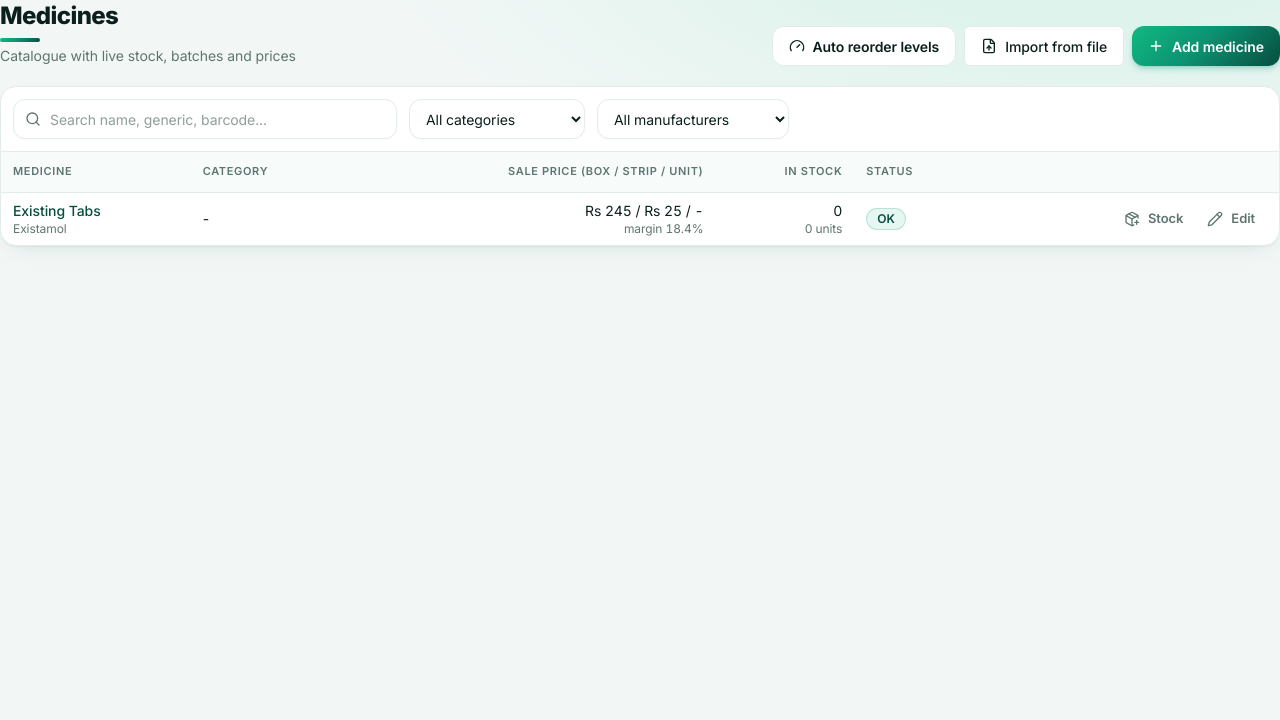
Scenario: minimum and maximum stock › says so honestly when there are no sales to base advice on
This screenshot has width=1280, height=720.
Click the button "Edit": (1231, 219) x1=1195 y1=203 x2=1267 y2=235
(page scrolled)
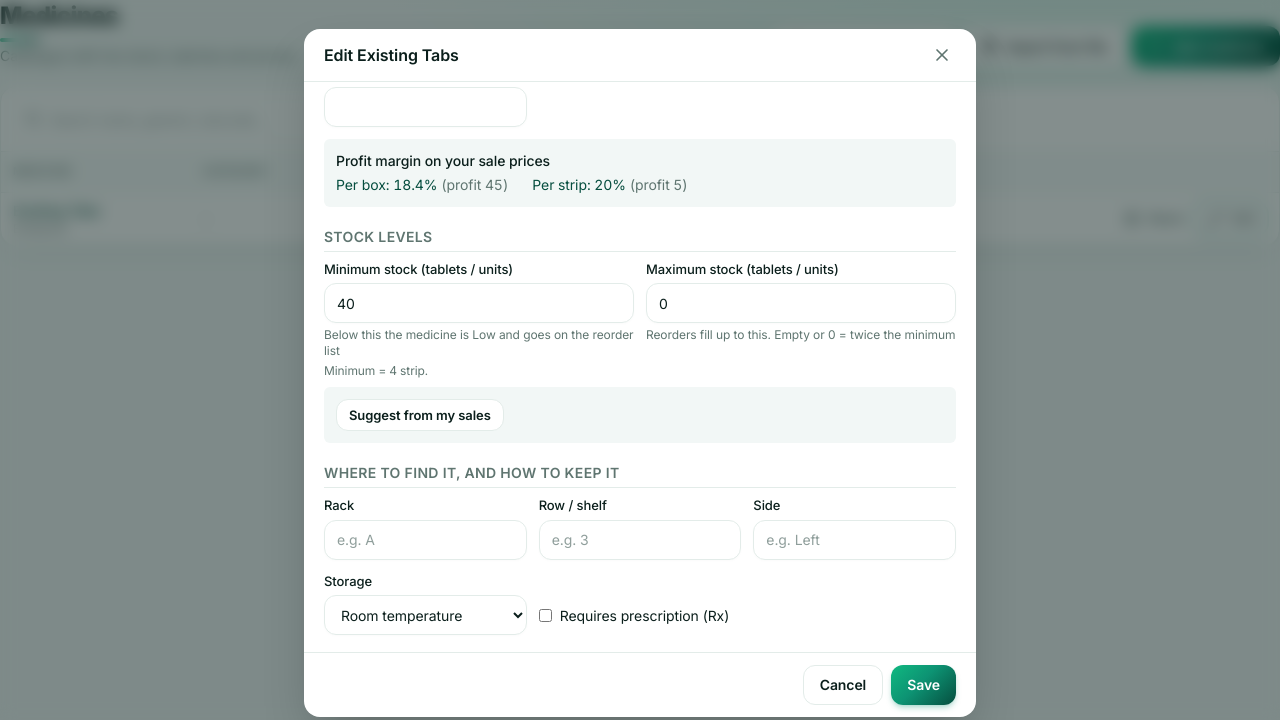
Click the button "Suggest from my sales": (420, 415) x1=336 y1=399 x2=504 y2=431
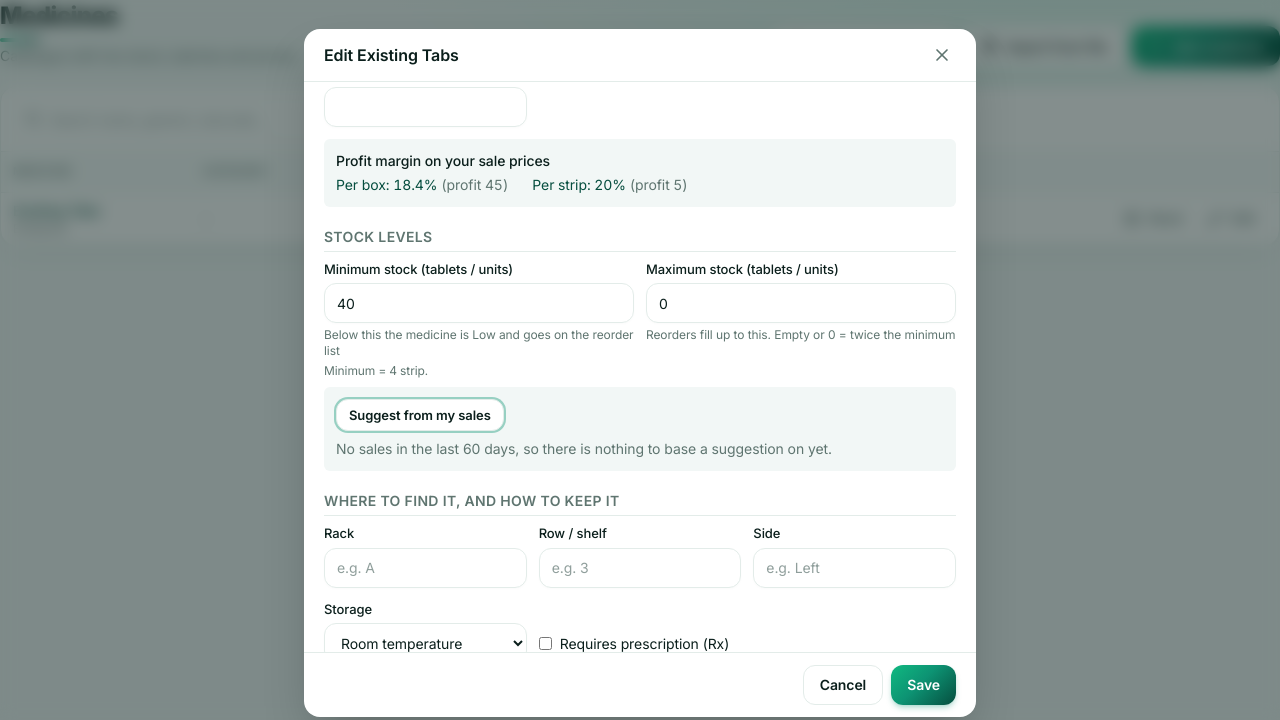
Now the text "No sales in the last 60 days" is shown, box x1=336 y1=440 x2=832 y2=457
